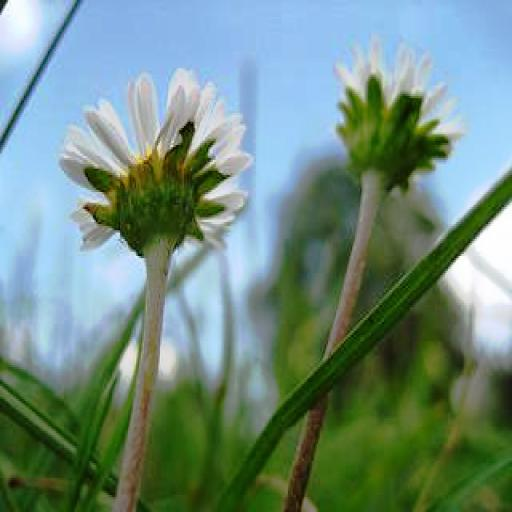daisy: (69, 77, 238, 260), (336, 43, 451, 196)
